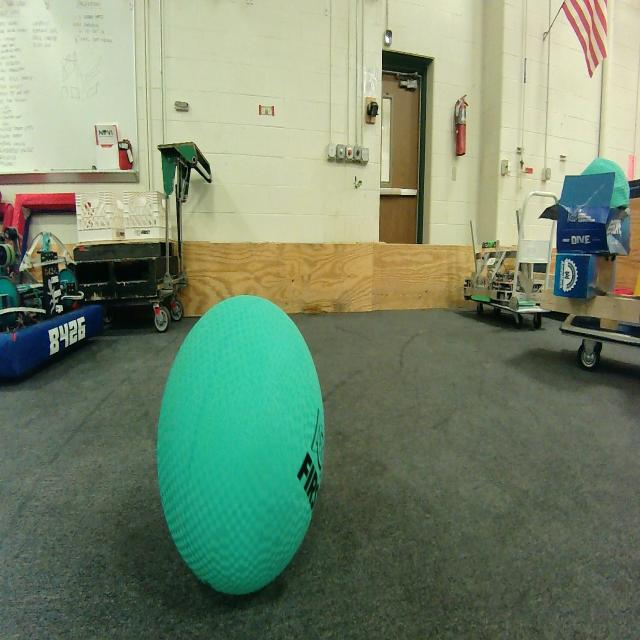algae: (151, 284, 335, 604)
